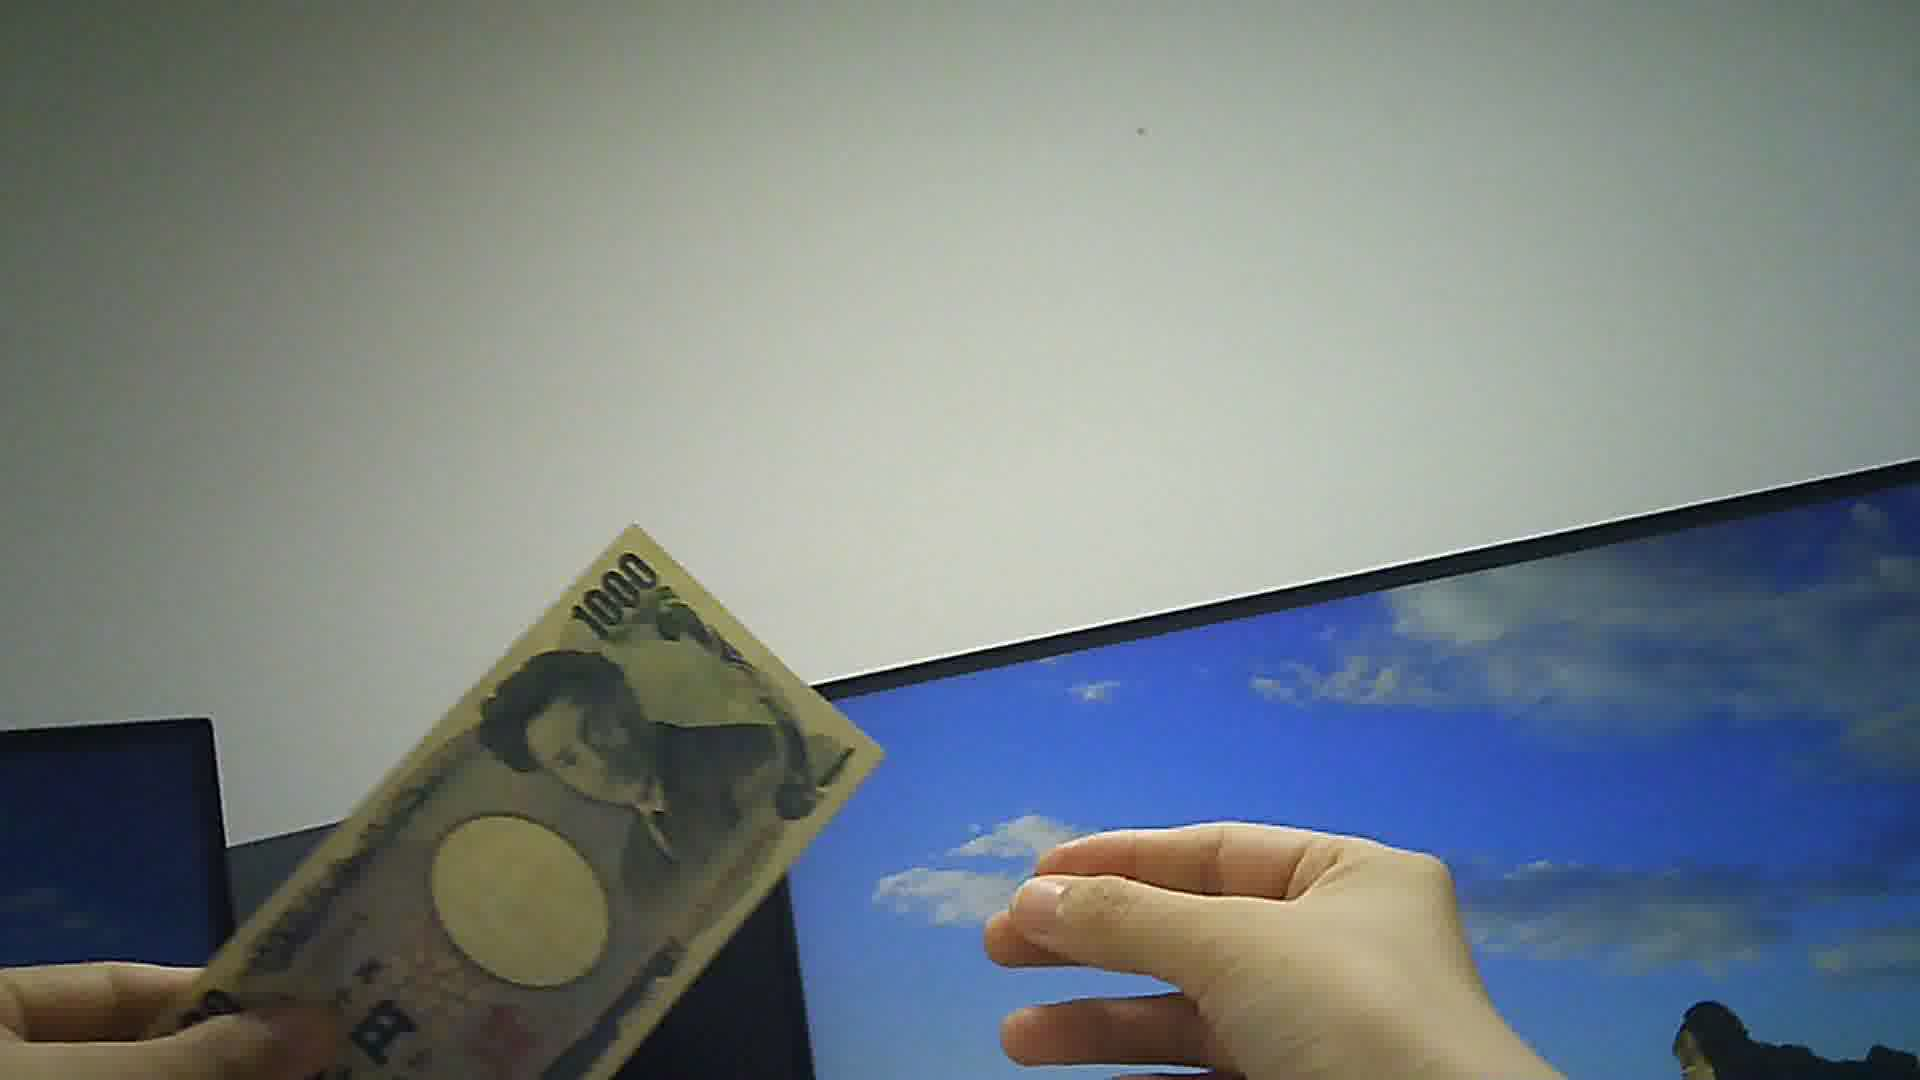1,000 Yen: (173, 489, 858, 1079)
